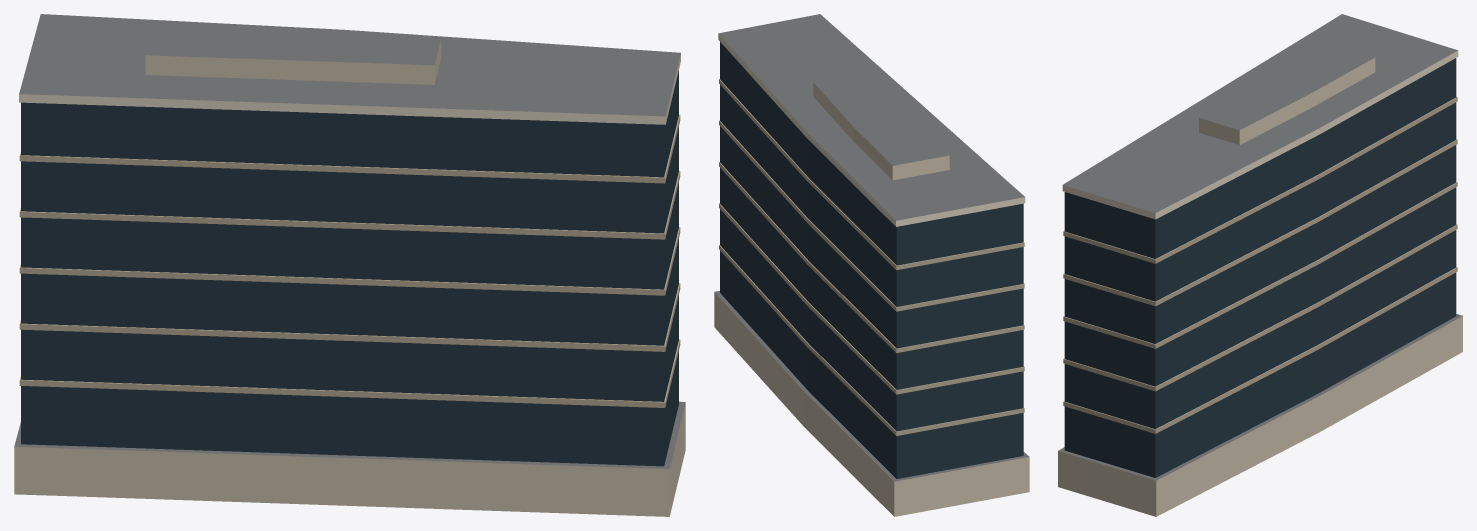
File: bldg_w543645430.glb
The picture shows the model from 3 angles, left to right: view 1: azimuth 30°, elevation 25°; view 2: azimuth 150°, elevation 25°; view 3: azimuth 270°, elevation 25°; orthographic projection. The views are drawn at different scales.
Visible parts, largest first — view 1: Bldg_w543645430; view 2: Bldg_w543645430; view 3: Bldg_w543645430.
Part boxes in pixels (x1,y1,x2,y2): Bldg_w543645430: (14, 14, 685, 516); Bldg_w543645430: (714, 14, 1029, 516); Bldg_w543645430: (1058, 14, 1462, 516).
Size of the model in its own units: 102 by 74.5 by 86.3.
